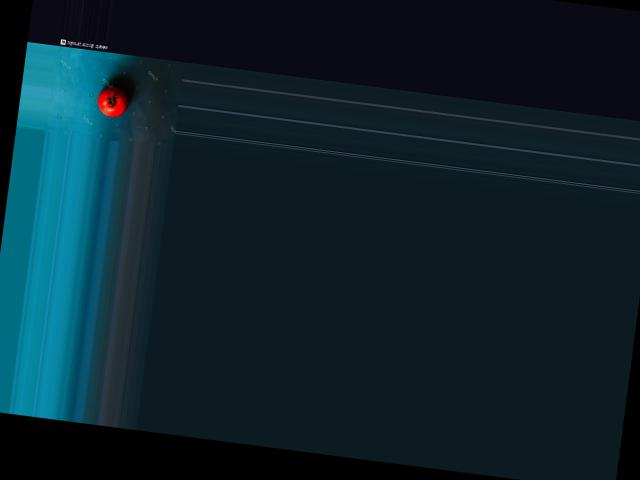tomato: (96, 84, 130, 118)
